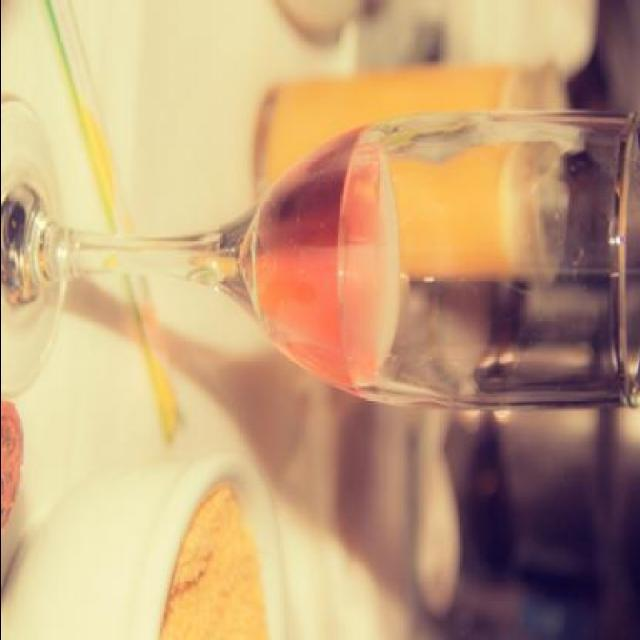Juice: (252, 61, 530, 276), (248, 117, 400, 397)
